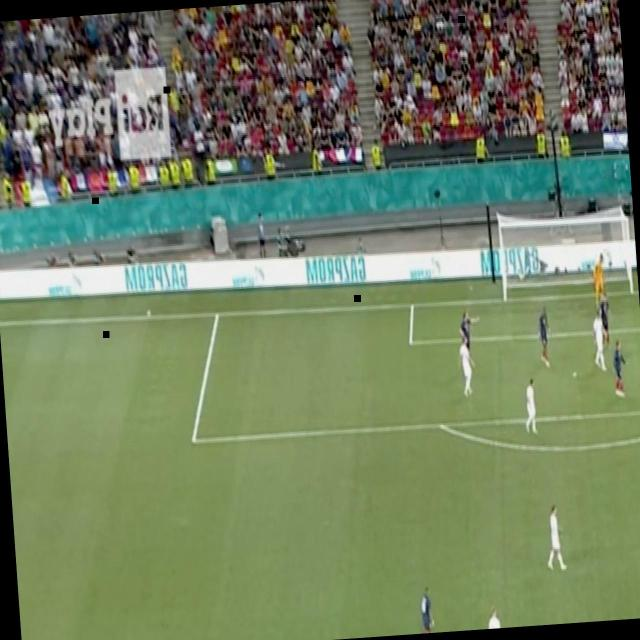player-white: (541, 502, 571, 576), (457, 306, 485, 373), (456, 334, 480, 402), (608, 335, 632, 402), (589, 307, 611, 379), (533, 302, 555, 372), (519, 376, 543, 438), (588, 249, 610, 313), (417, 580, 439, 634), (598, 290, 617, 350), (486, 602, 506, 630)
